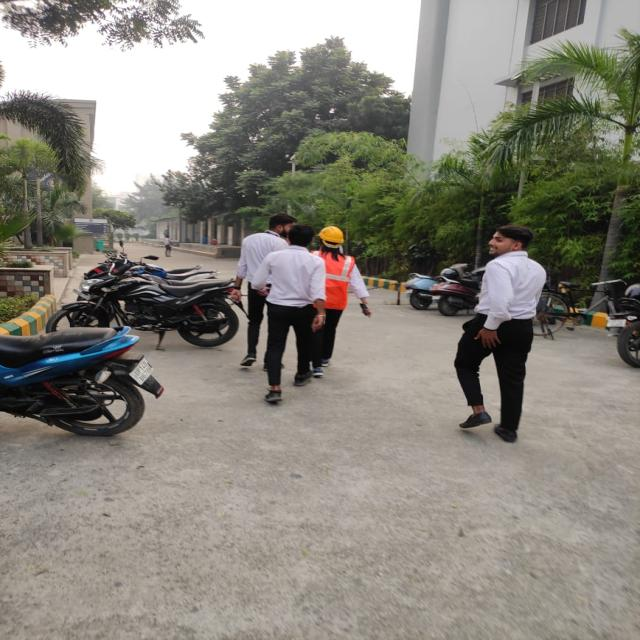safe: (310, 227, 371, 367)
unsafe: (454, 225, 550, 443), (255, 224, 326, 403), (233, 213, 296, 370), (164, 235, 172, 256)
